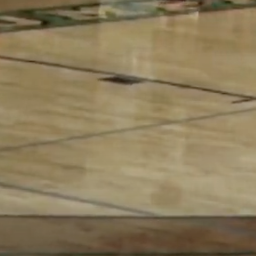block: (97, 74, 146, 85)
